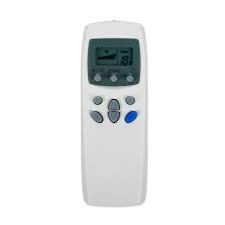remote control: (75, 19, 157, 206)
